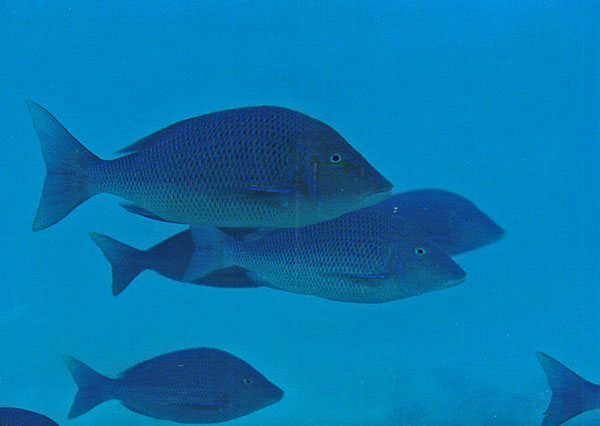fish: (24, 101, 393, 231), (182, 220, 467, 305), (61, 347, 286, 424)
